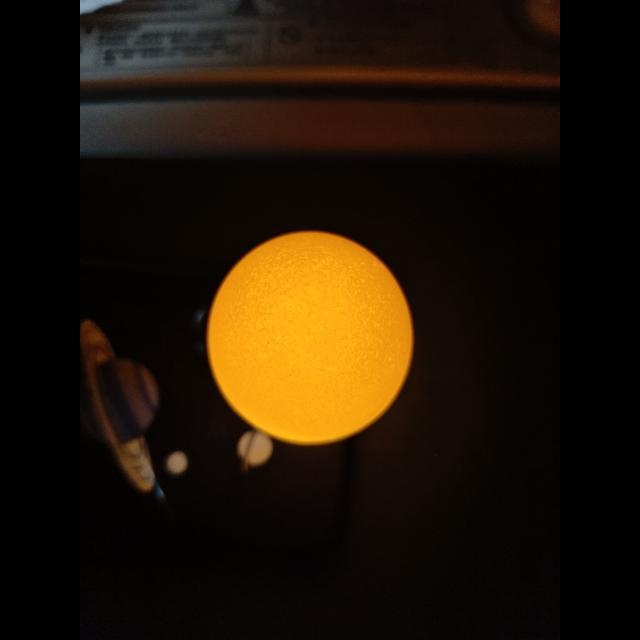AA - Premium: (206, 231, 413, 445)
